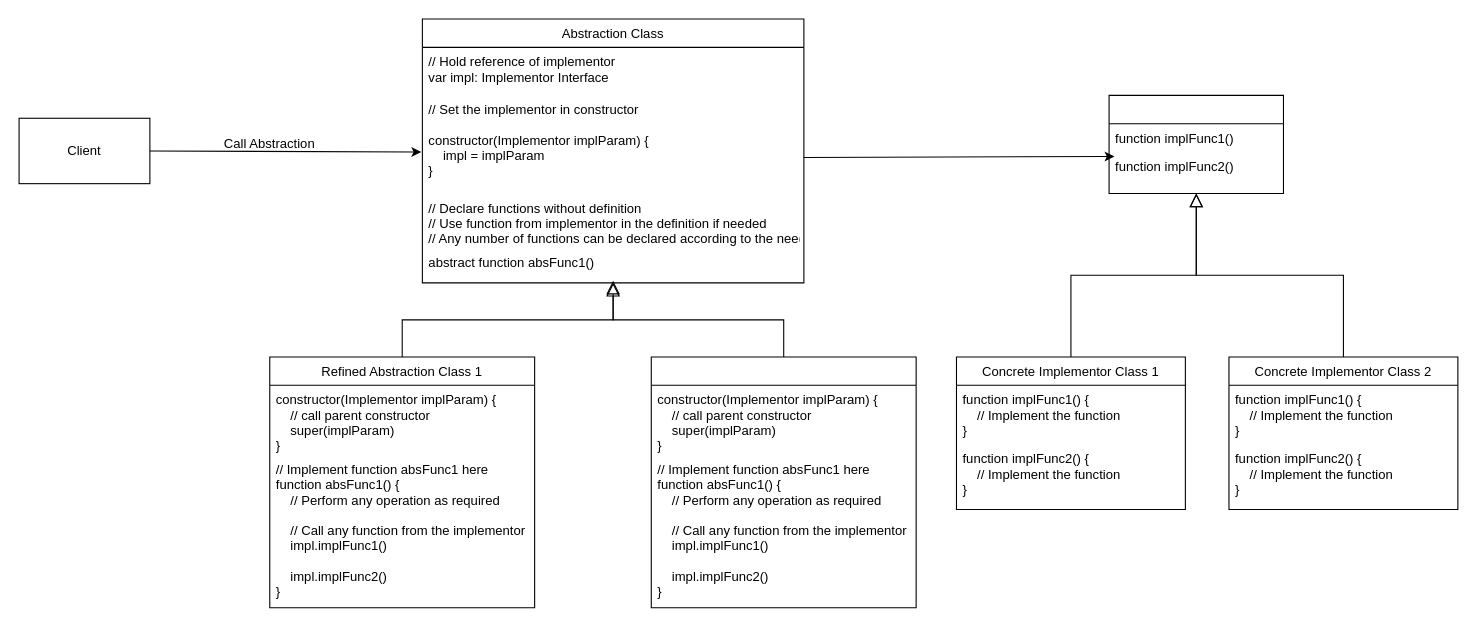
Image size: 1477x630. Some labels were removed from this diagram. Here are the shapes that lost their labels. From the top down, the box of each, then its label:
(1108, 94, 1283, 193): Implementor Interface
(650, 356, 916, 608): Refined Abstraction Class 2
